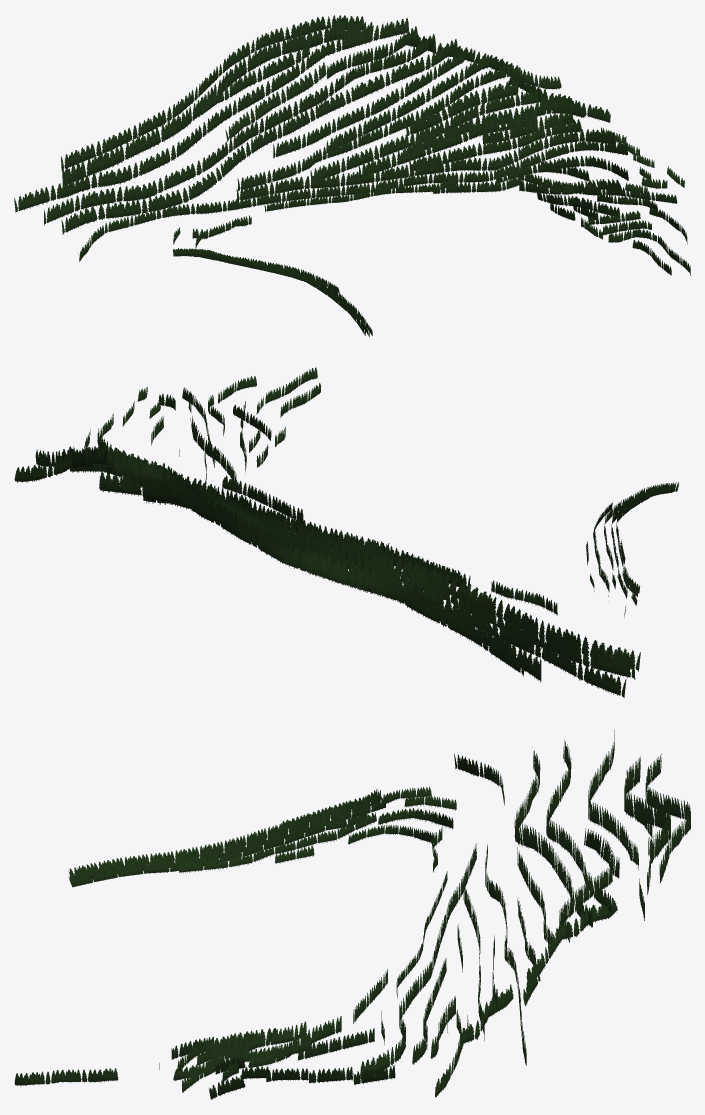
Rendered from Trees.fbx.
3 views of the same model, one above another, from view 1: azimuth 30°, elevation 25°; view 2: azimuth 150°, elevation 25°; view 3: azimuth 270°, elevation 25° (orthographic). The views are drawn at different scales.
Parts seen in each view (by area): view 1: 00, 000, 0; view 2: 00, 0, 000; view 3: 00, 0, 000.
Part boxes in pixels (x1,y1,x2,y2): 00: (14, 15, 690, 275); 000: (519, 127, 684, 242); 0: (173, 227, 372, 336); 00: (14, 367, 640, 698); 0: (586, 482, 678, 618); 000: (84, 386, 285, 481); 00: (14, 729, 690, 1097); 0: (68, 786, 456, 887); 000: (159, 1016, 395, 1099).
Bounding box in the file's own units: 875 × 193 × 695.
